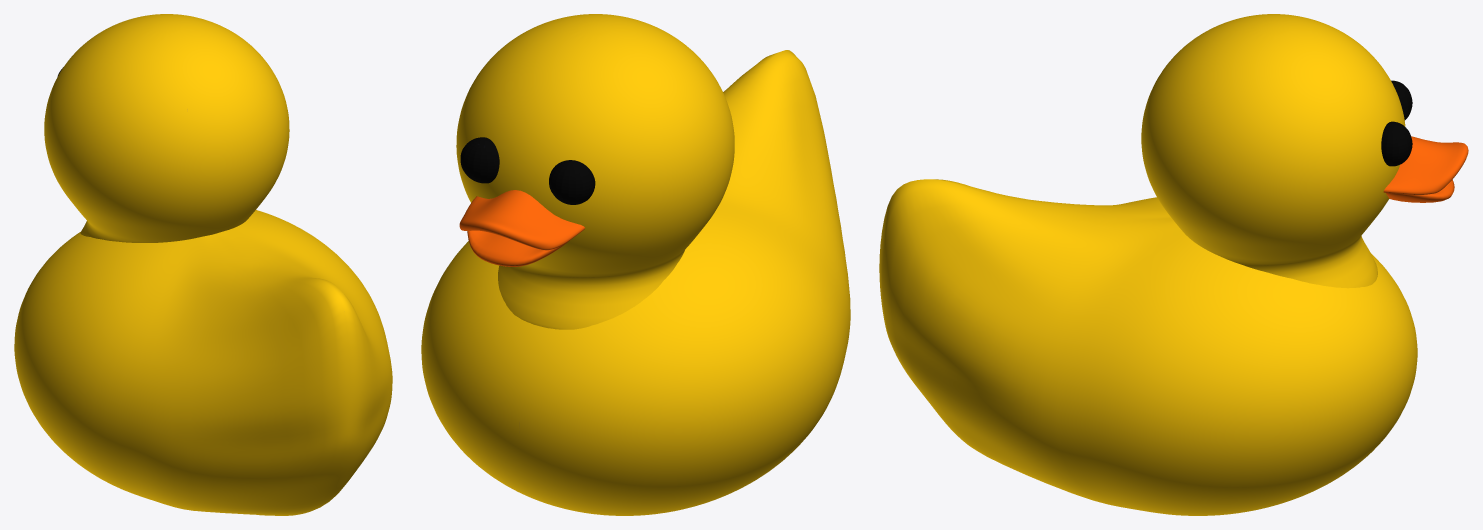
File: ruber duck.fbx
The picture shows the model from 3 angles, left to right: view 1: azimuth 30°, elevation 25°; view 2: azimuth 150°, elevation 25°; view 3: azimuth 270°, elevation 25°; orthographic projection. The views are drawn at different scales.
Visible parts, largest first — view 1: ruber duck; view 2: ruber duck; view 3: ruber duck.
Part boxes in pixels (x1=…): ruber duck: x1=14, y1=14, x2=392, y2=515; ruber duck: x1=421, y1=14, x2=850, y2=515; ruber duck: x1=879, y1=14, x2=1468, y2=515.
Bounding box in the file's own units: 0.5188 × 0.6742 × 0.778.
1 material, 1 textured.
